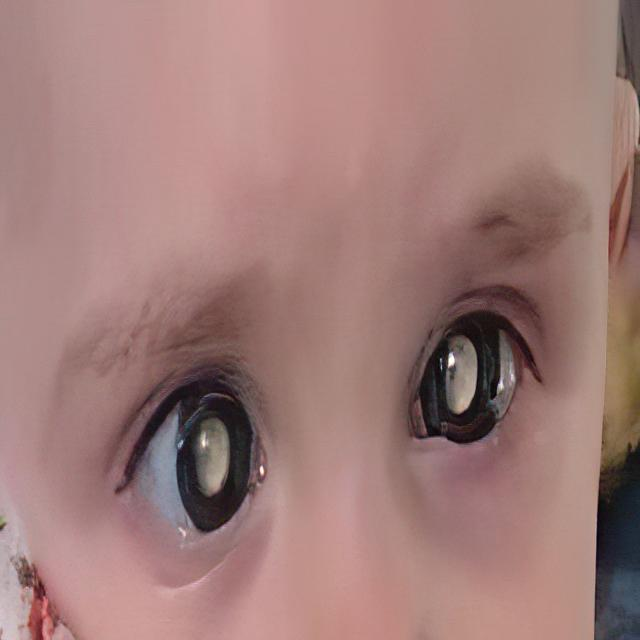reflexo-alterado: (115, 369, 254, 547), (414, 295, 526, 459)
